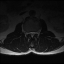CCS_normal: (31, 30, 33, 39)
LFS_normal: (35, 30, 37, 35)
LLS_normal: (33, 29, 35, 36)
RFS_stenosis: (27, 30, 29, 35)
RLS_normal: (29, 30, 31, 36)
